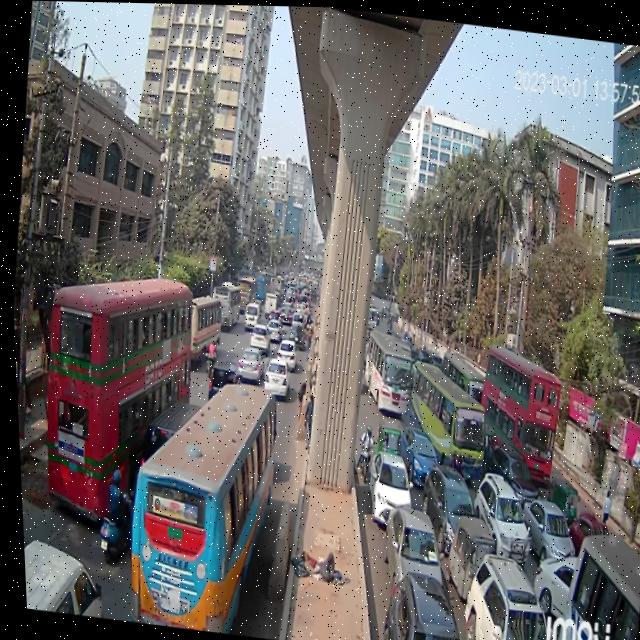cng: (539, 472, 580, 521), (365, 411, 401, 466)
